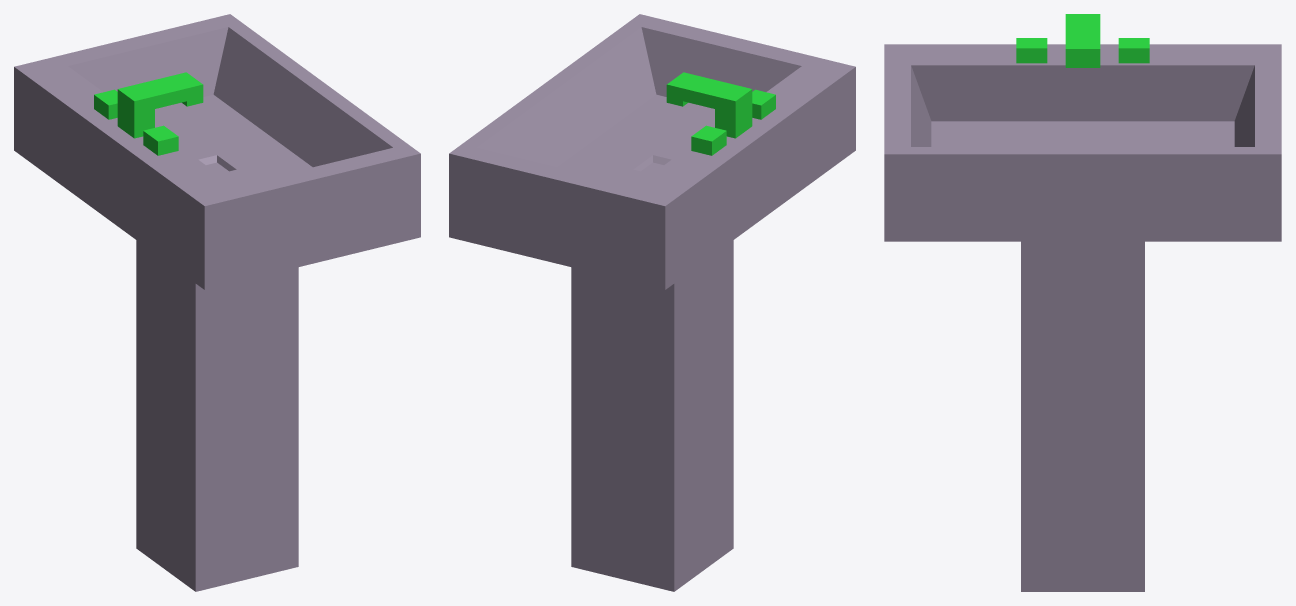
Rendered from Sink.fbx.
The picture shows the model from 3 angles, left to right: view 1: azimuth 30°, elevation 25°; view 2: azimuth 150°, elevation 25°; view 3: azimuth 270°, elevation 25°; orthographic projection. The views are drawn at different scales.
Visible parts, largest first — view 1: Sink; view 2: Sink; view 3: Sink.
Part boxes in pixels (box(x1,y1,x2,y2)): Sink: box(14, 14, 420, 591); Sink: box(449, 14, 855, 591); Sink: box(884, 14, 1281, 591).
Bounding box in the file's own units: 0.5342 × 1.14 × 0.816.
